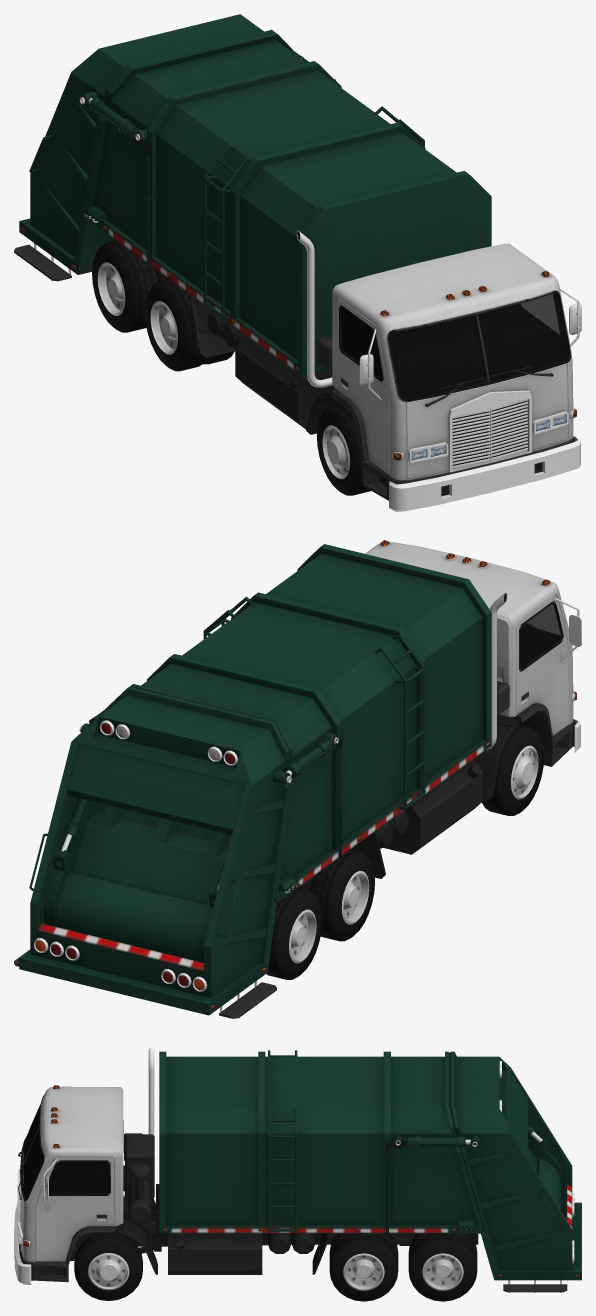
File: veh-garbage_truck.glb
The picture shows the model from 3 angles, top to bottom: view 1: azimuth 30°, elevation 25°; view 2: azimuth 150°, elevation 25°; view 3: azimuth 270°, elevation 25°; orthographic projection. The views are drawn at different scales.
Visible parts, largest first — view 1: garbage_truck_garbagetruck_tex_0, garbage_truck_garbagetruck_glass_0, garbage_truck_optics_tex_0; view 2: garbage_truck_garbagetruck_tex_0, garbage_truck_garbagetruck_glass_0, garbage_truck_optics_tex_0; view 3: garbage_truck_garbagetruck_tex_0, garbage_truck_garbagetruck_glass_0.
Boxes of the visible parts, x1,y1,x2,y2 form: garbage_truck_garbagetruck_tex_0: [14, 14, 581, 511]; garbage_truck_garbagetruck_glass_0: [341, 293, 568, 399]; garbage_truck_optics_tex_0: [20, 225, 576, 460]; garbage_truck_garbagetruck_tex_0: [14, 542, 581, 1018]; garbage_truck_garbagetruck_glass_0: [520, 604, 560, 668]; garbage_truck_optics_tex_0: [35, 540, 576, 1009]; garbage_truck_garbagetruck_tex_0: [14, 1047, 581, 1301]; garbage_truck_garbagetruck_glass_0: [22, 1106, 108, 1198].
Size of the model in its own units: 2.62 by 2.83 by 7.65.
Materials: 3 (3 with a texture image).
